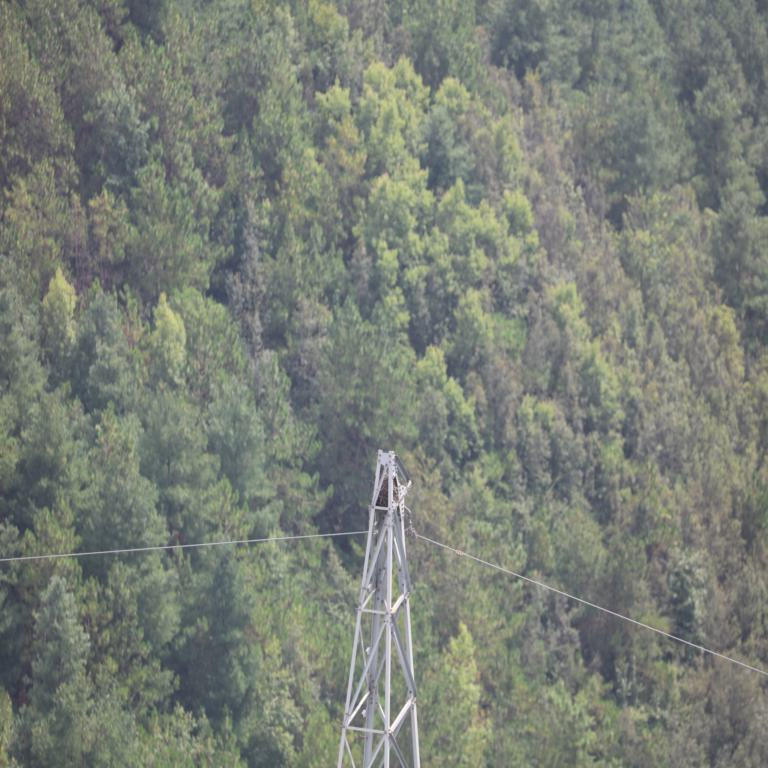nest: (377, 476, 400, 506)
